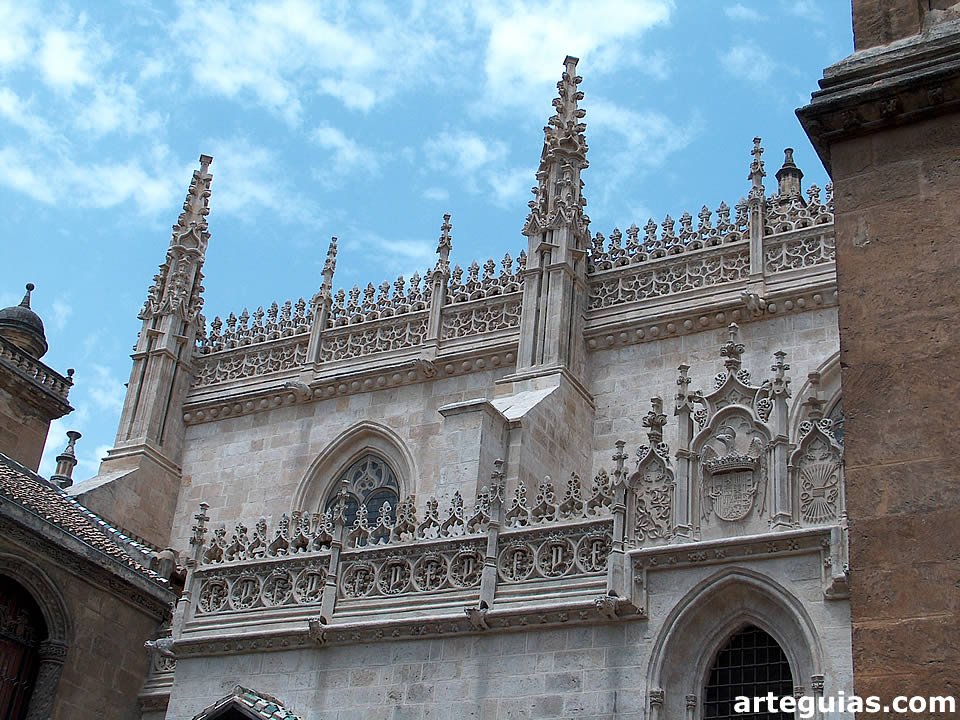pinaculo-gotico: (526, 45, 598, 225), (144, 148, 220, 308)
